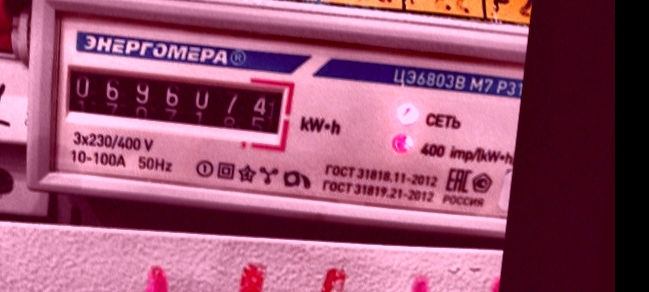0: (69, 70, 91, 96), (191, 82, 209, 109)
4: (249, 89, 267, 112)
5: (248, 114, 265, 130)
6: (162, 79, 182, 106), (101, 74, 121, 100)
7: (220, 86, 240, 113)
9: (131, 76, 150, 104)
screen: (50, 49, 297, 145)
